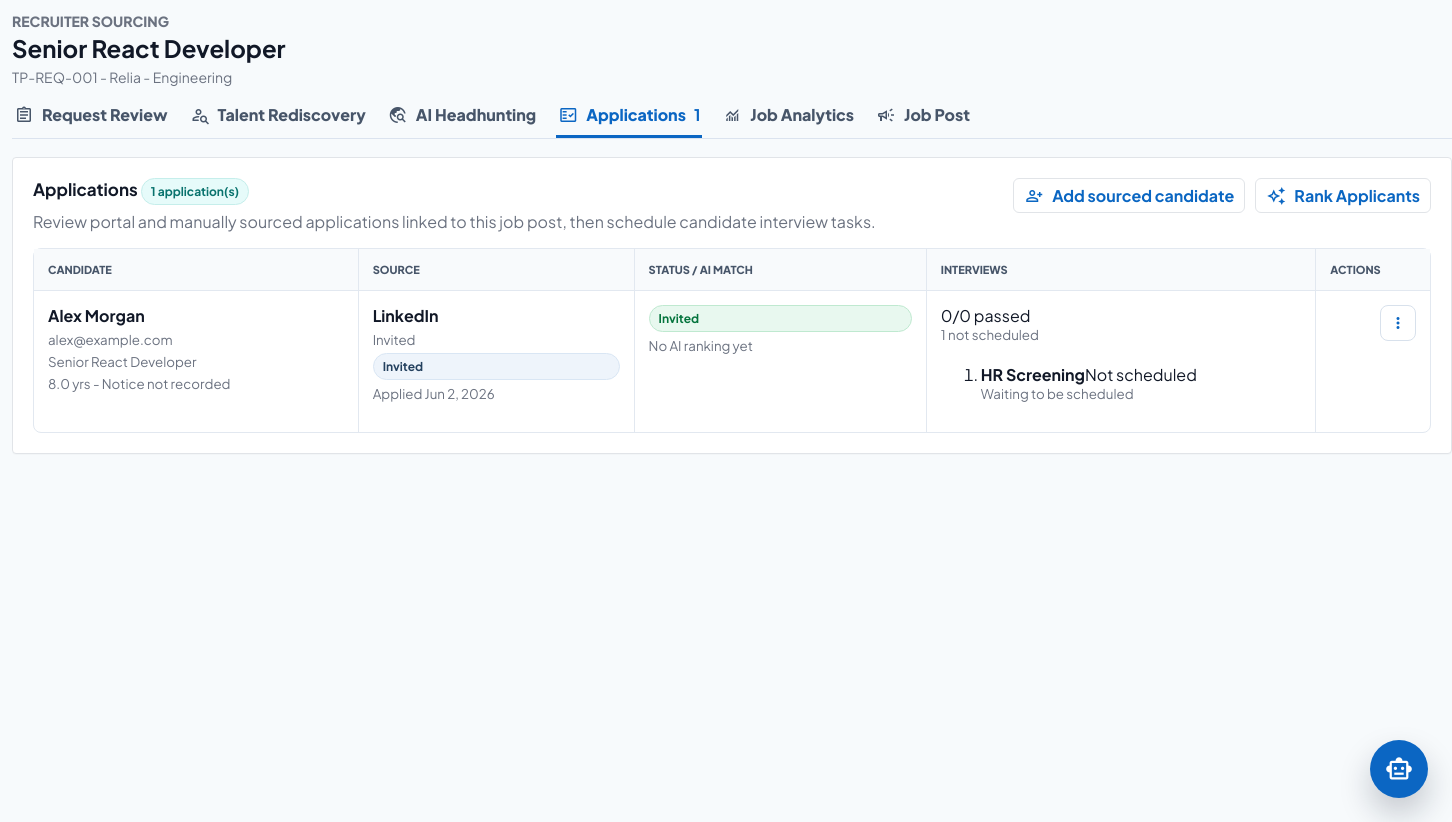
Scenario: RecruiterSourcingComponent skill picker behavior › keeps application row actions inside the overflow menu
Expected: the element with class "manual-candidate-row" does not show "Shortlist"
Expected: the element with class "manual-candidate-row" does not show "Schedule"
Click the button with class "action-menu-trigger" at (1398,323), box [1380, 305, 1416, 341]
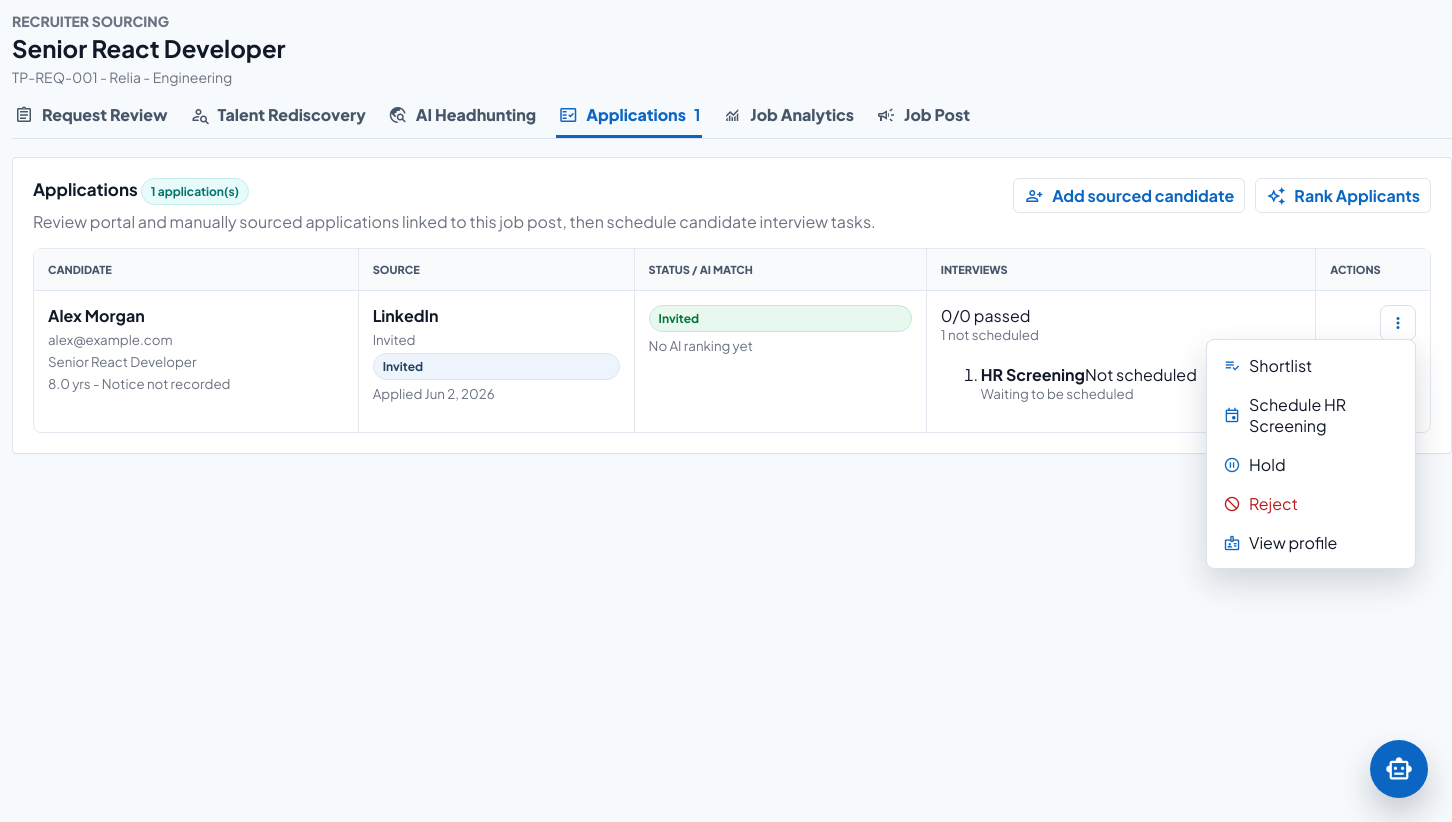
Now the menu with class "action-dropdown" shows "Shortlist", box [1213, 346, 1409, 385]
Now the menu with class "action-dropdown" shows "Schedule HR Screening", box [1213, 385, 1409, 445]
Now the menu with class "action-dropdown" shows "Hold", box [1213, 445, 1409, 484]
